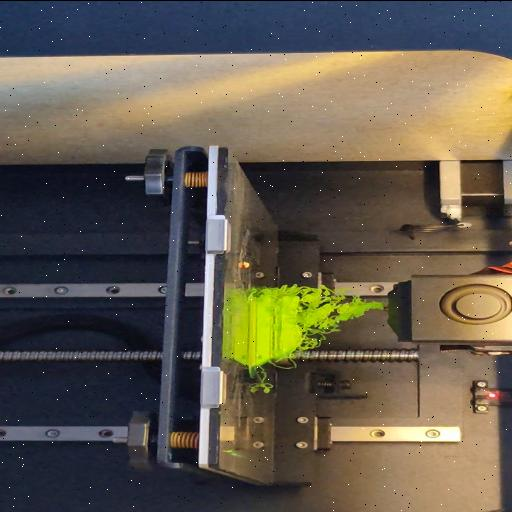spaghetti: (299, 284, 385, 352), (252, 367, 272, 393), (250, 284, 300, 294), (270, 358, 298, 370)
